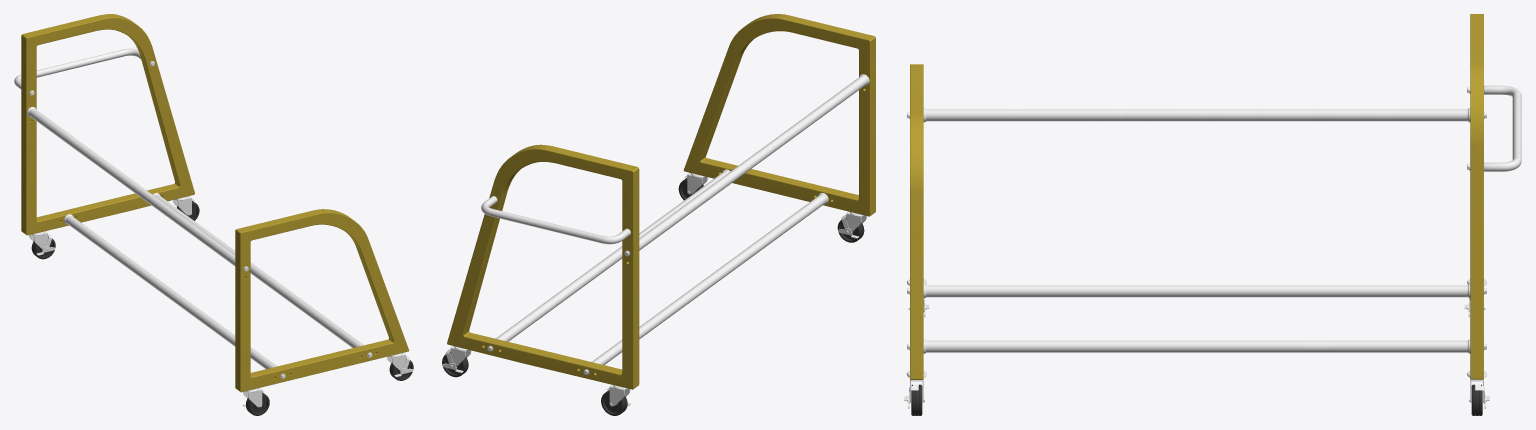
Rendered from storage_tire_rack_c01.glb.
The picture shows the model from 3 angles, left to right: view 1: azimuth 30°, elevation 25°; view 2: azimuth 150°, elevation 25°; view 3: azimuth 270°, elevation 25°; orthographic projection. The views are drawn at different scales.
Visible parts, largest first — view 1: frame_01_mesh_00; view 2: frame_01_mesh_00, wBase_04_mesh_00, wBase_02_mesh_00; view 3: frame_01_mesh_00.
Boxes of the visible parts, x1,y1,x2,y2 form: frame_01_mesh_00: (14,14,409,392); frame_01_mesh_00: (447,14,875,389); wBase_04_mesh_00: (442,346,471,373); wBase_02_mesh_00: (838,211,866,238); frame_01_mesh_00: (907,14,1521,379).
Size of the model in its own units: 0.5785 by 0.7191 by 1.36.
Materials: 3 (2 with a texture image).
